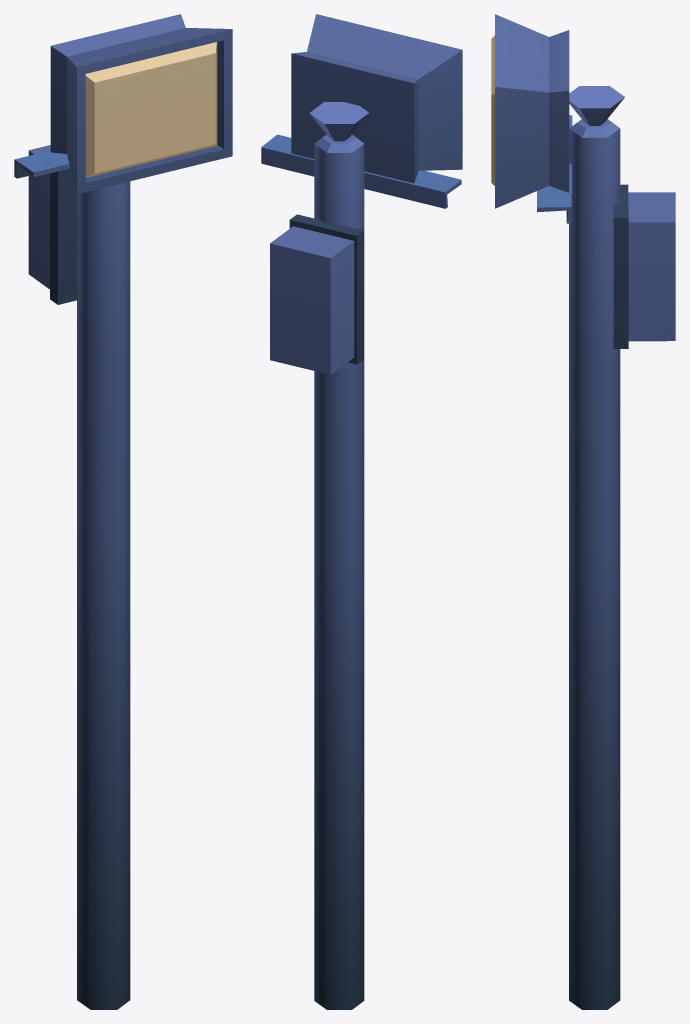
Rendered from MSH_PosteLuz_3.fbx.
3 renders of one model, left to right at view 1: azimuth 30°, elevation 25°; view 2: azimuth 150°, elevation 25°; view 3: azimuth 270°, elevation 25°, orthographic. The views are drawn at different scales.
Visible parts, largest first — view 1: MSH_PosteLuz_2, MSH_PosteLuz_2_Luces; view 2: MSH_PosteLuz_2; view 3: MSH_PosteLuz_2, MSH_PosteLuz_2_Luces.
Boxes of the visible parts, box(x1,y1,x2,y2) form: MSH_PosteLuz_2: box(14, 14, 232, 1009); MSH_PosteLuz_2_Luces: box(85, 42, 217, 177); MSH_PosteLuz_2: box(261, 14, 462, 1009); MSH_PosteLuz_2: box(495, 14, 675, 1009); MSH_PosteLuz_2_Luces: box(491, 35, 494, 185).
Size of the model in its own units: 47.88 by 230 by 40.52.
